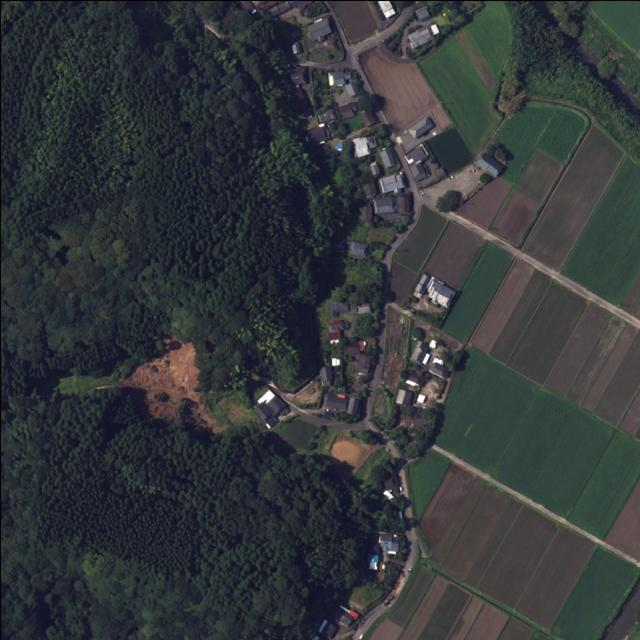landslide: (120, 337, 198, 404)
